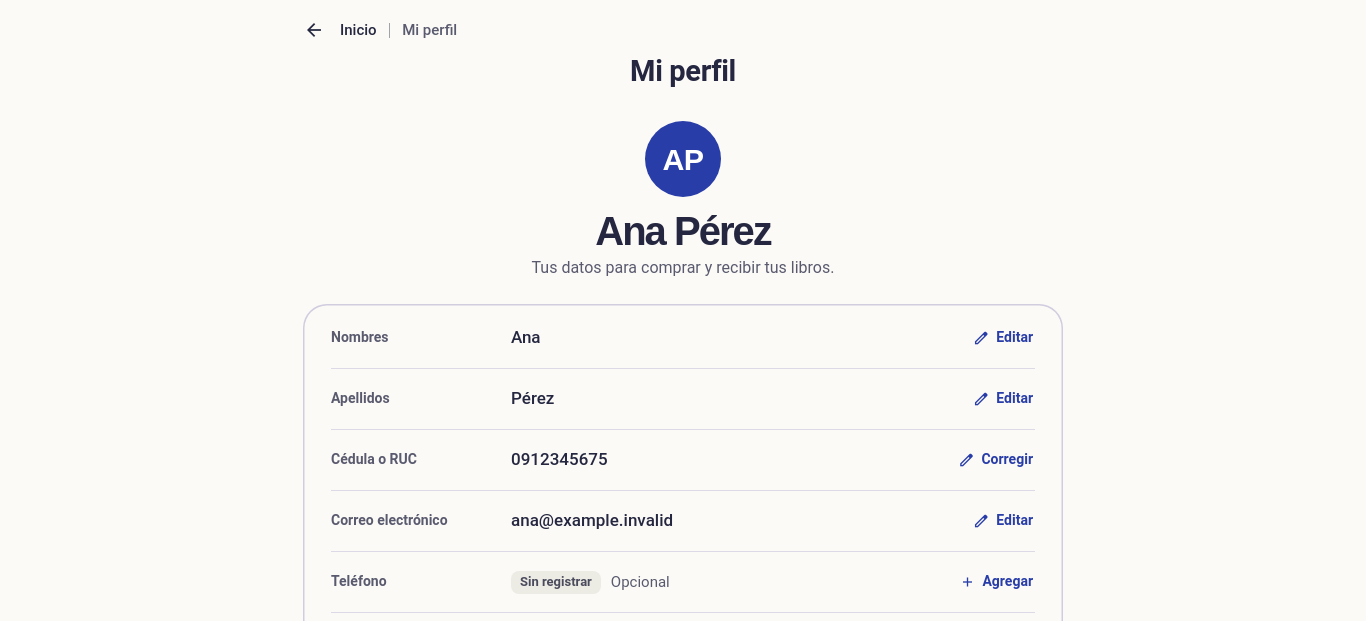
keeps the correction open on a wrong password and never shows success
Step 1. Click the button named "Corregir cédula o RUC" → (996, 460), box [947, 438, 1045, 482]
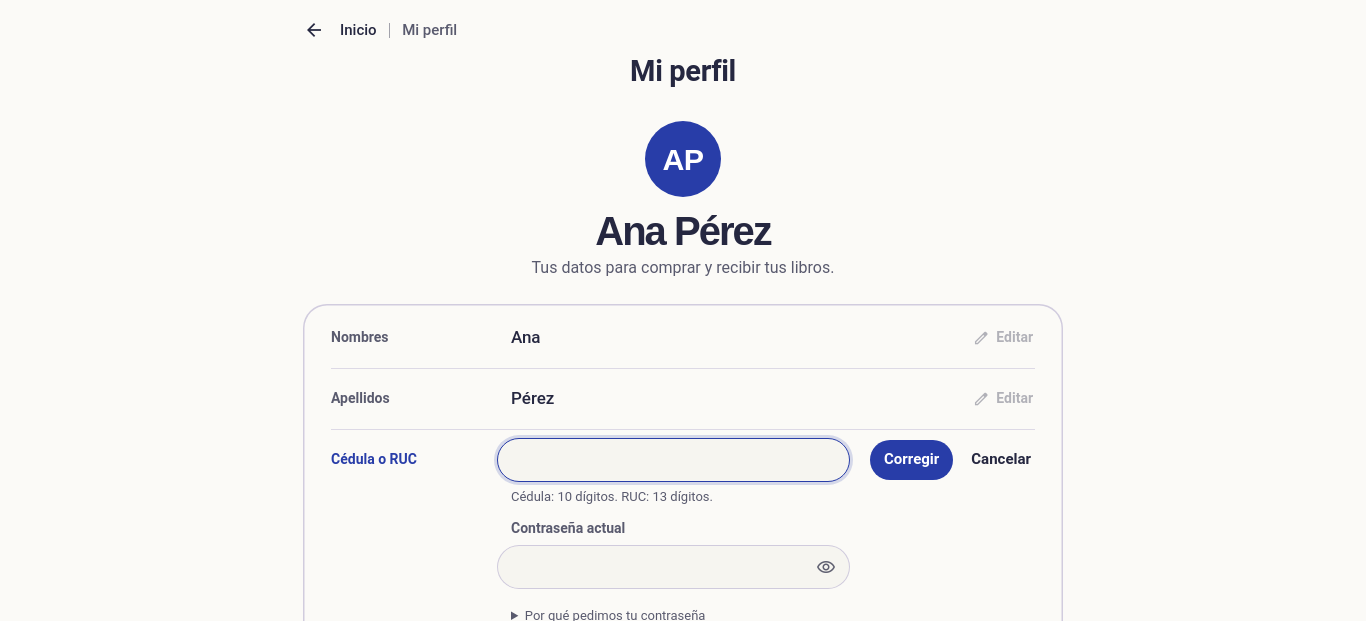
Step 2. Type "1710034065" into the field labelled "Cédula o RUC" → (674, 460), box [497, 438, 850, 482]
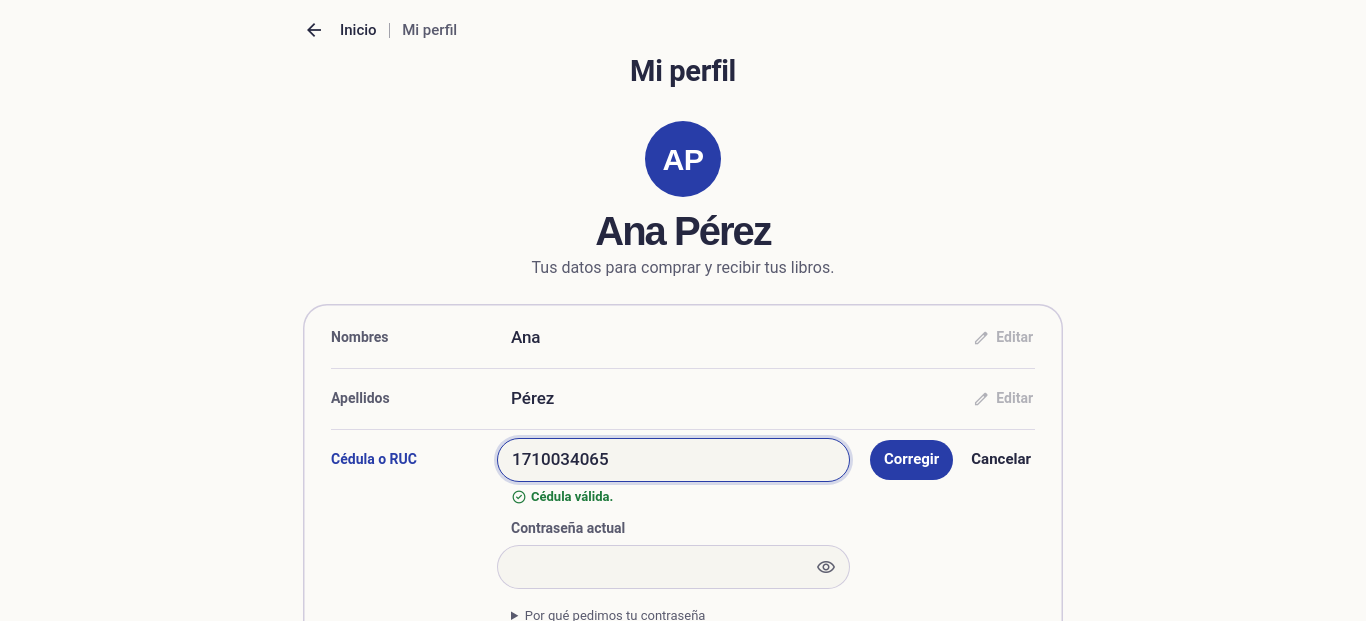
Step 3. Type "otra" into the password field labelled "Contraseña actual" → (674, 567), box [497, 545, 850, 589]
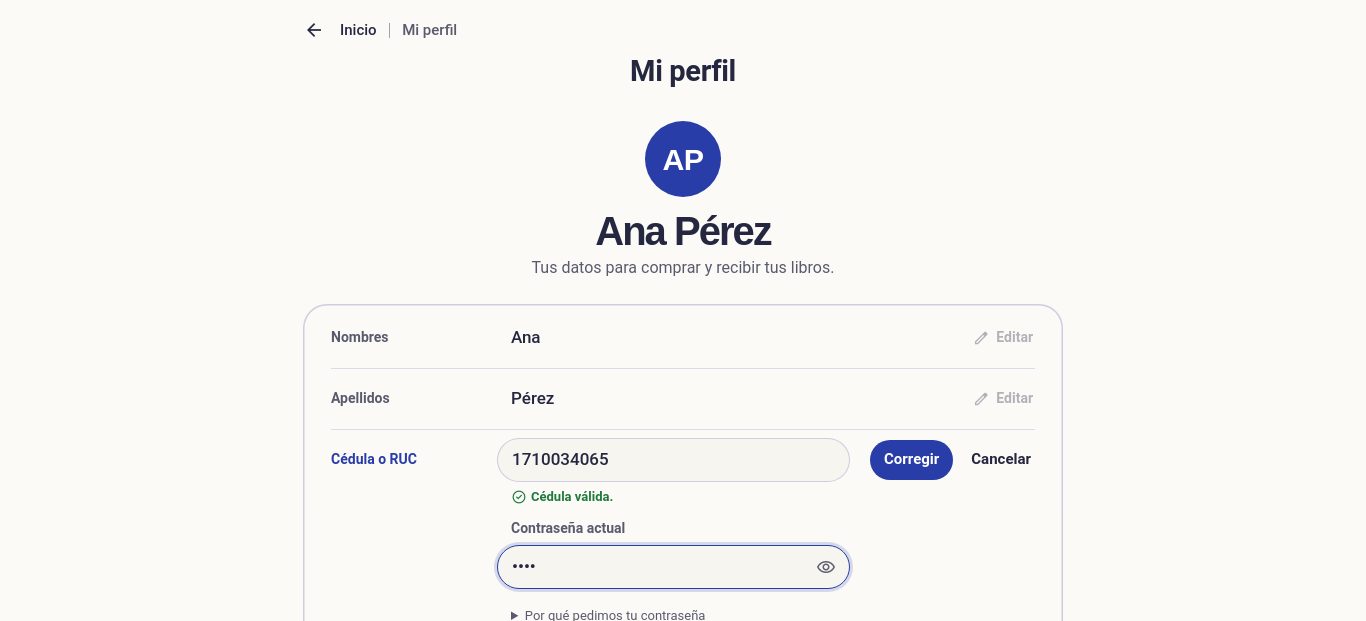
Step 4. Click the button "Corregir" → (912, 460), box [870, 440, 953, 480]
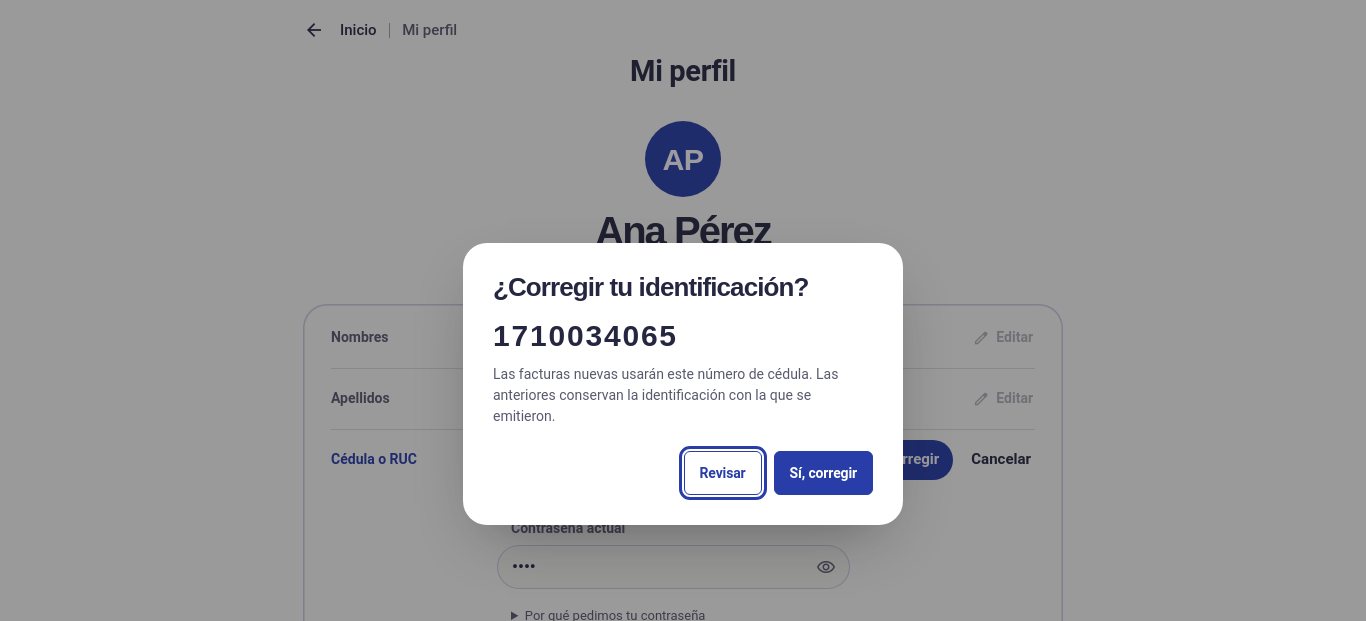
Step 5. Click the button "Sí, corregir" → (823, 473), box [774, 451, 873, 495]
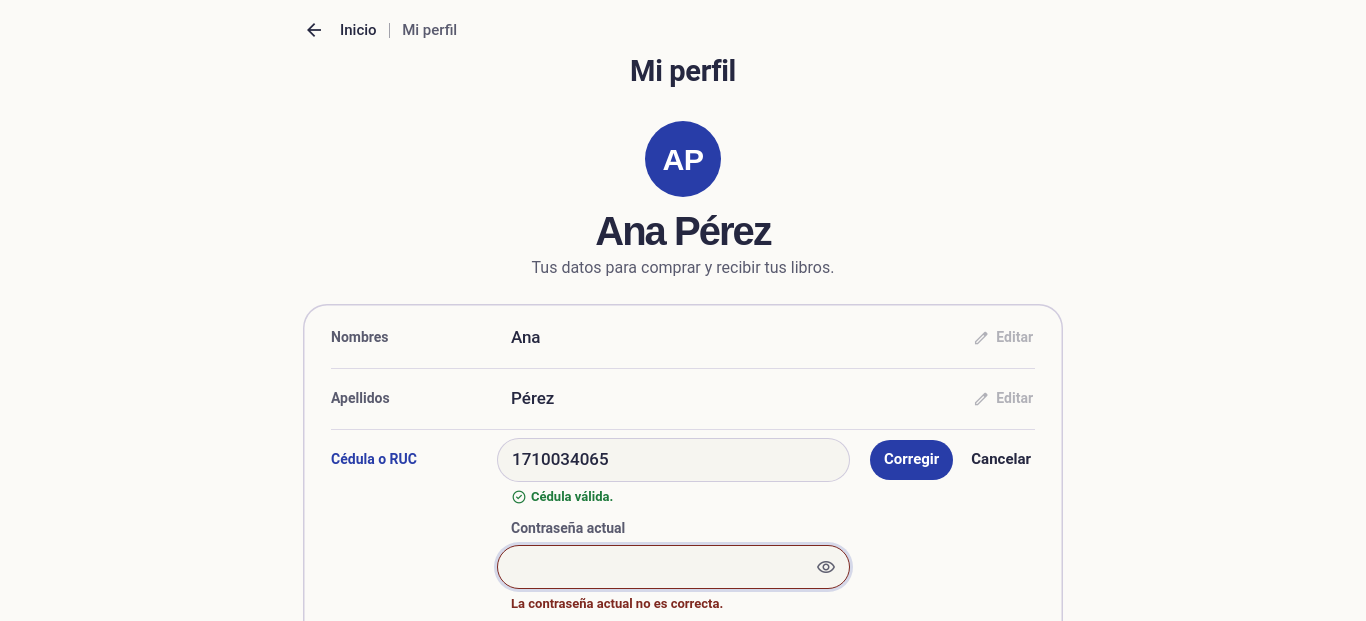
Result: the text "La contraseña actual no es correcta." is shown at [511, 596, 723, 611]
Result: the password field labelled "Contraseña actual" is empty at [497, 545, 850, 589]
